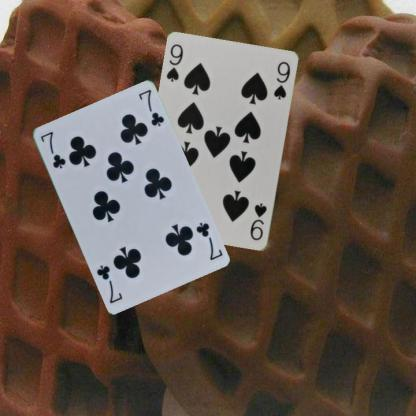7c: (193, 219, 224, 262), (38, 128, 67, 170)
9s: (164, 42, 185, 84), (248, 201, 268, 242)
